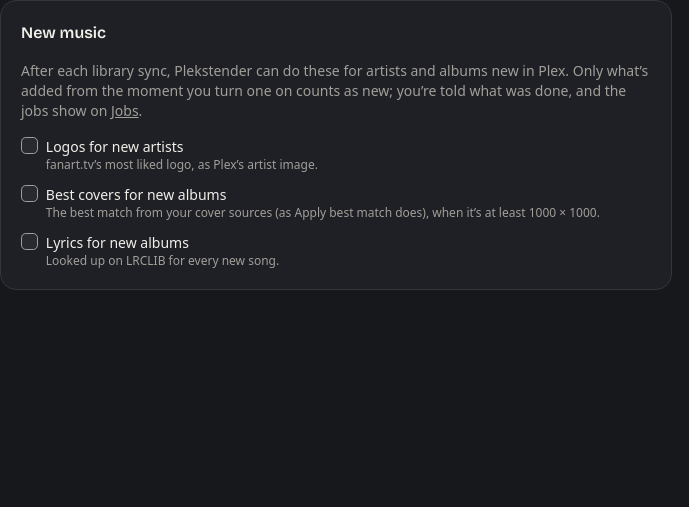
Test: turns on what happens to new music, and says what it needs
The image size is (689, 507).
Click the checkbox labelled "Logos for new artists" at [29, 145], box [21,137,38,154]
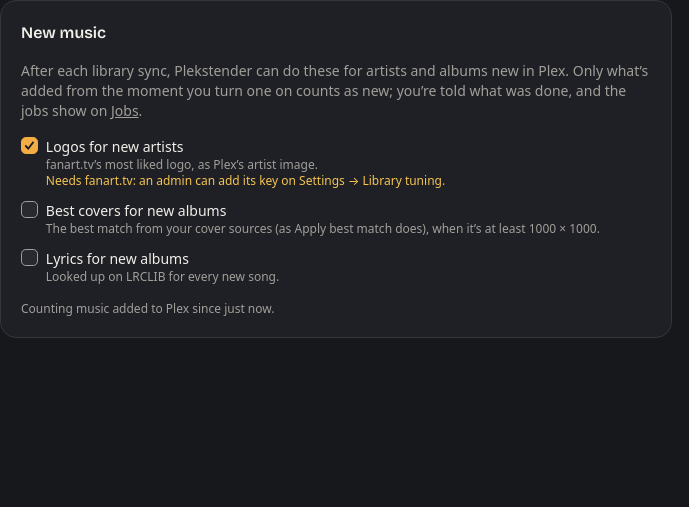
Check: the text "Needs fanart.tv" is shown, box [46,172,445,189]
Check: the text "Counting music added to Plex since just now." is shown, box [21,300,274,317]
// Lyrics: written next to the songs unless changed (and only once tag editing is on).
Click the checkbox labelled "Lyrics for new albums" at [29, 257], box [21,249,38,266]
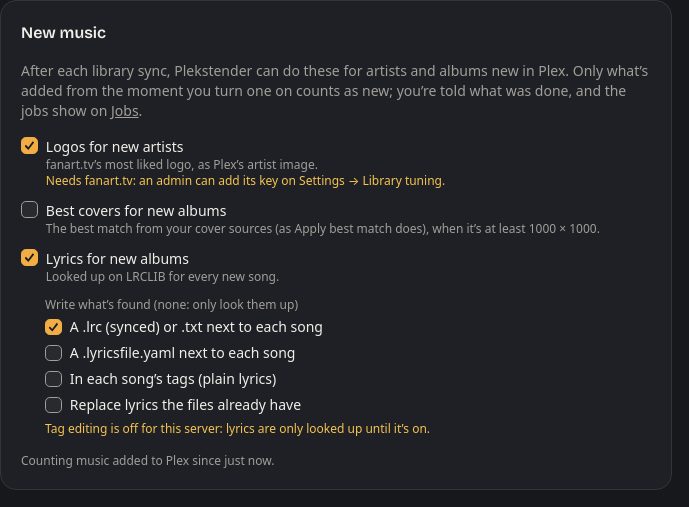
Check: the text "Tag editing is off for this server" is shown, box [45,420,430,437]
Check: the checkbox labelled "A .lrc (synced) or .txt next to each song" is checked, box [45,319,62,335]
